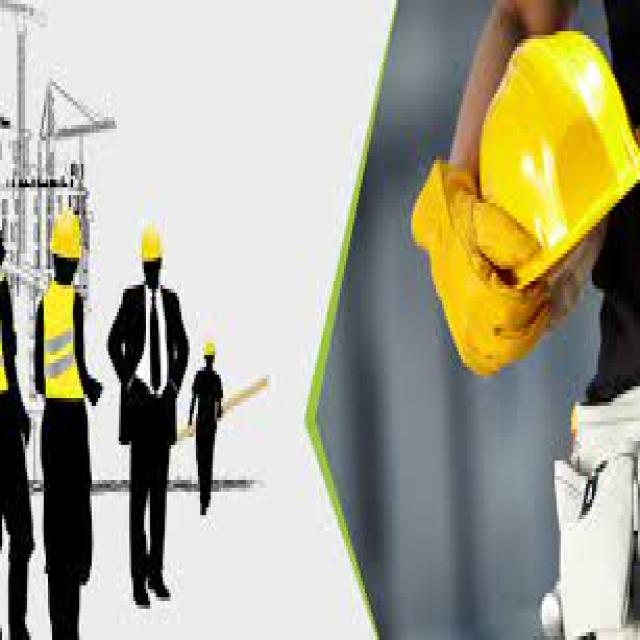Reflective-Jacket: (31, 277, 92, 418)
Safety-Helmet: (471, 27, 640, 297), (44, 199, 88, 273), (133, 215, 169, 277), (200, 336, 221, 363)
